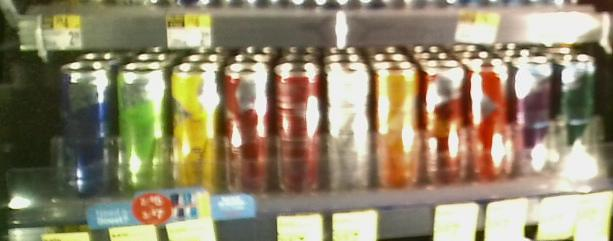bottle: (115, 55, 169, 199), (273, 56, 326, 201), (58, 56, 112, 198), (172, 60, 224, 201), (373, 53, 420, 197), (423, 57, 467, 195), (328, 57, 370, 198), (227, 64, 269, 202), (561, 56, 602, 191), (517, 59, 558, 191), (474, 59, 513, 193)
